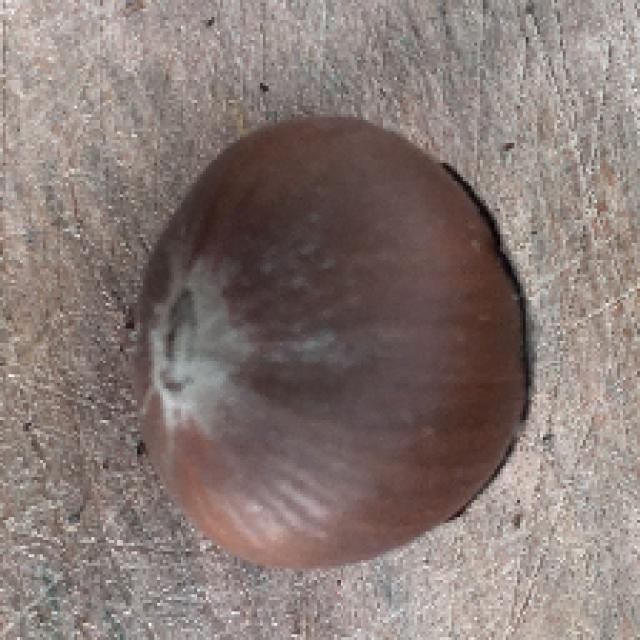damagedHazelnut: (130, 95, 548, 568)
